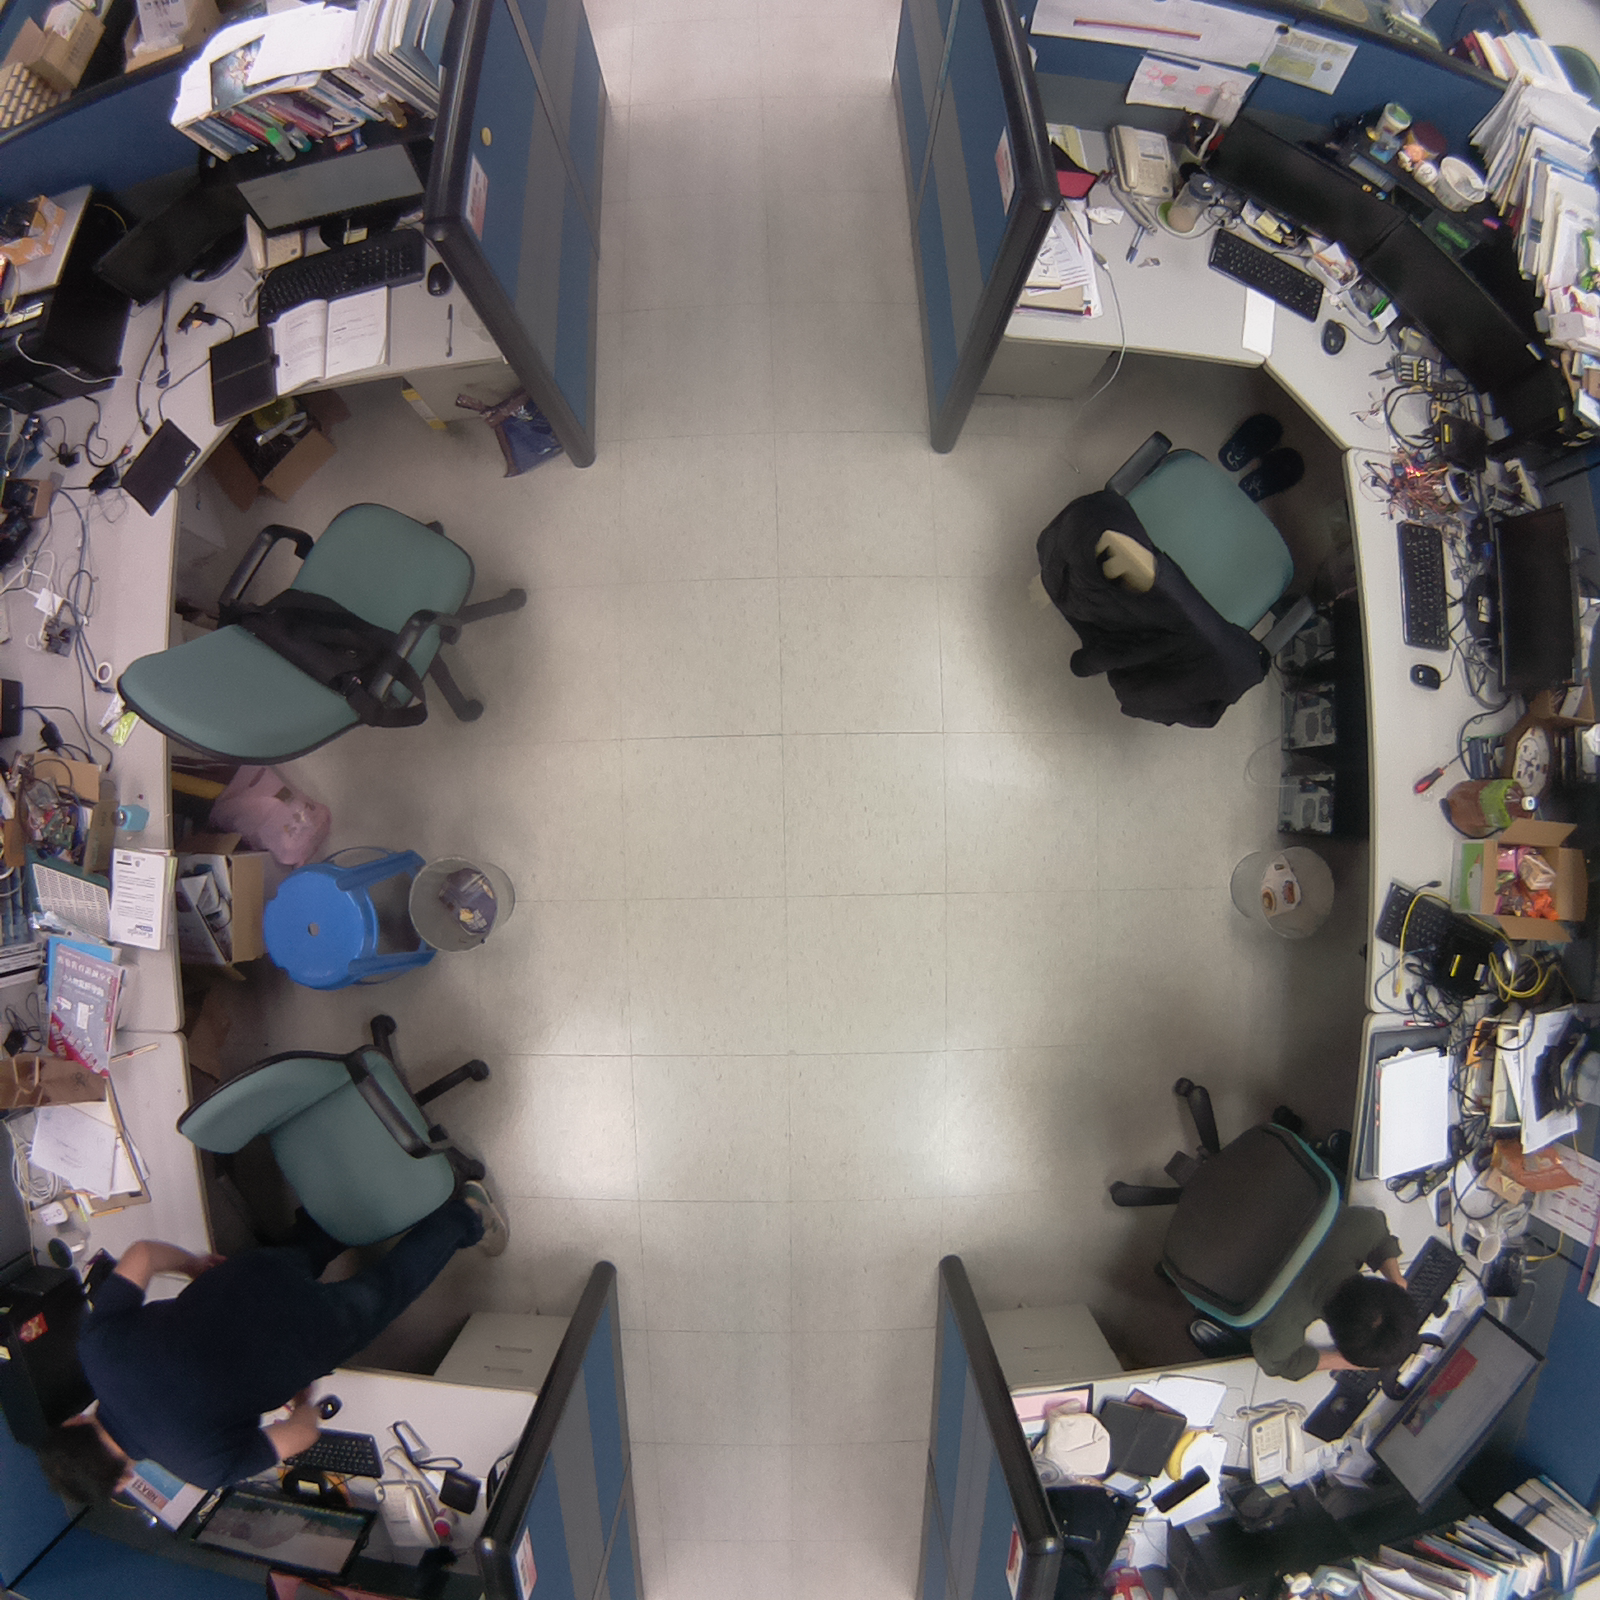chair: (101, 488, 547, 788), (1012, 401, 1340, 752)
head: (28, 1413, 137, 1515)
sitting: (1083, 1068, 1437, 1399)
standing: (22, 1140, 509, 1522)
